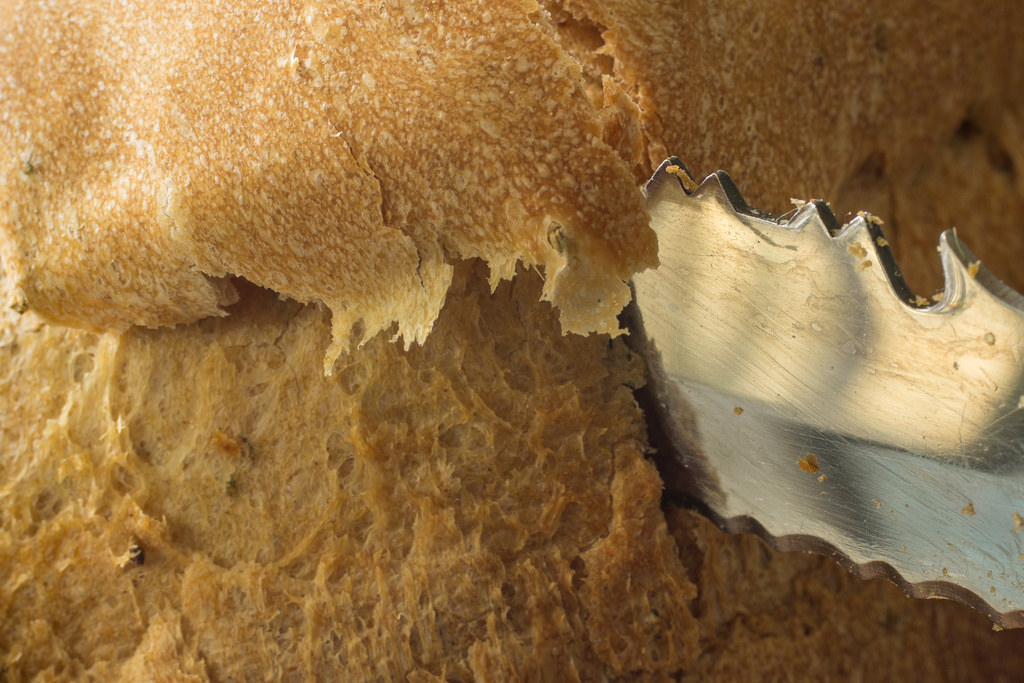slice of bread: (222, 71, 1001, 341)
